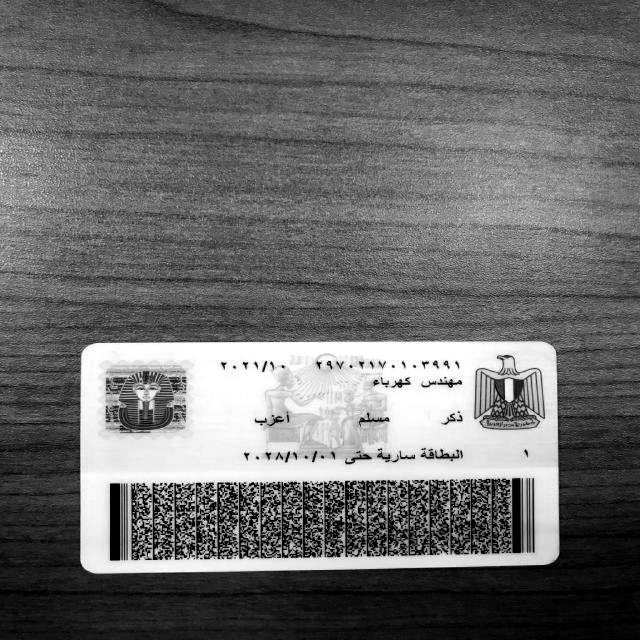id_card: (81, 341, 559, 573)
